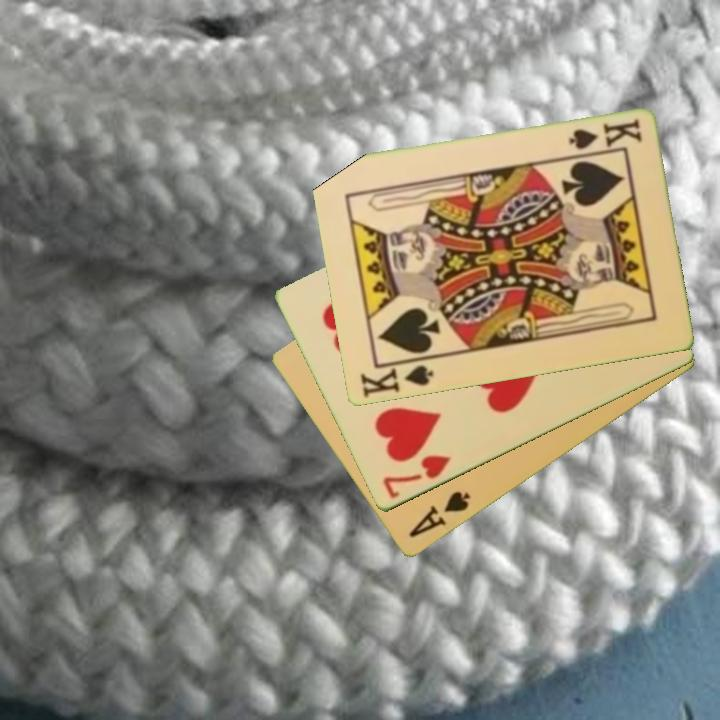7h: (379, 452, 454, 502)
As: (405, 488, 474, 541)
Ks: (356, 362, 436, 401), (565, 116, 644, 153)
